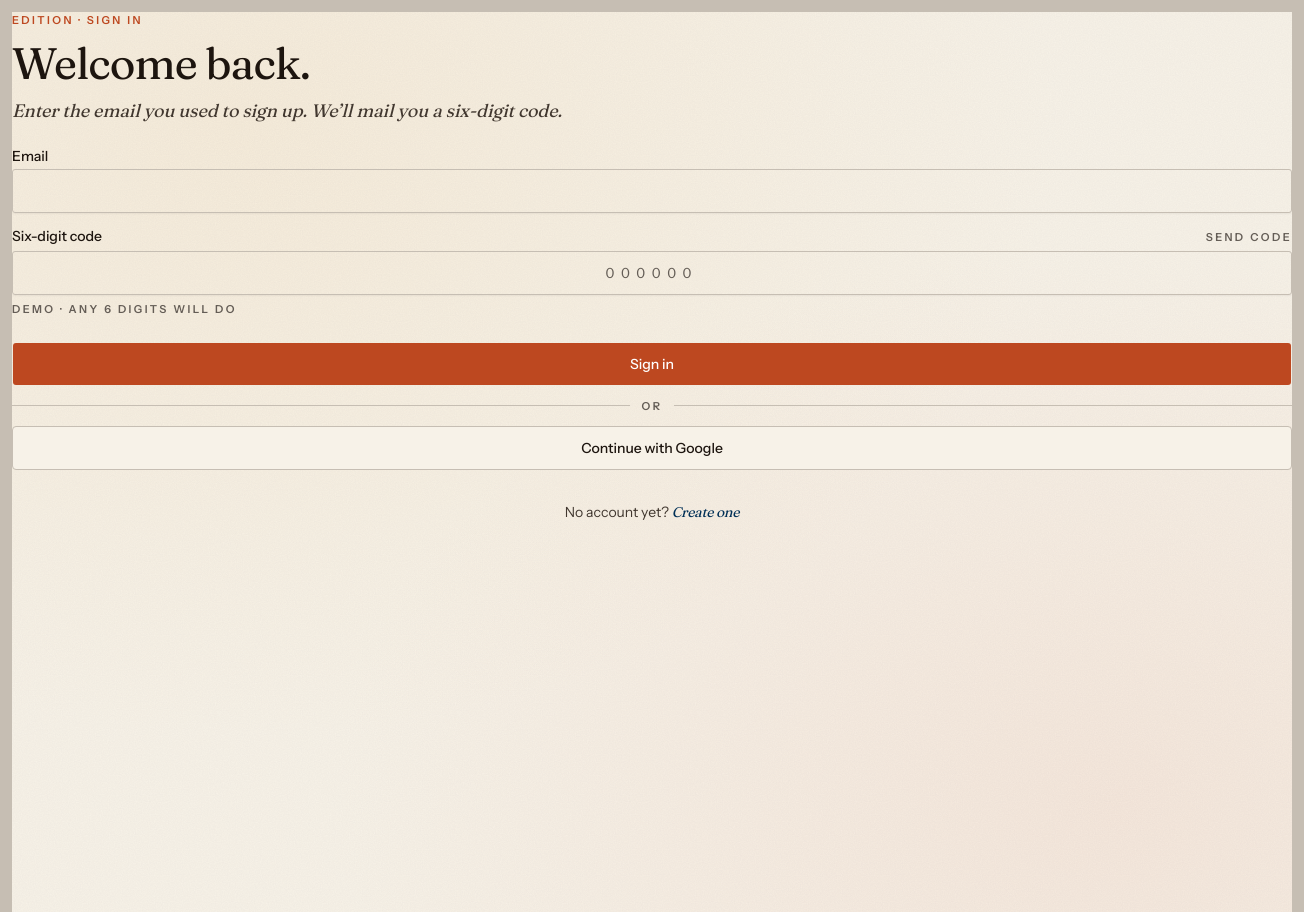
Test: AuthForm — validation › signin: empty email → submit shows 'Email is required.'
Click the button with test id "auth-submit" at (652, 364), box 12,342 -> 1292,386
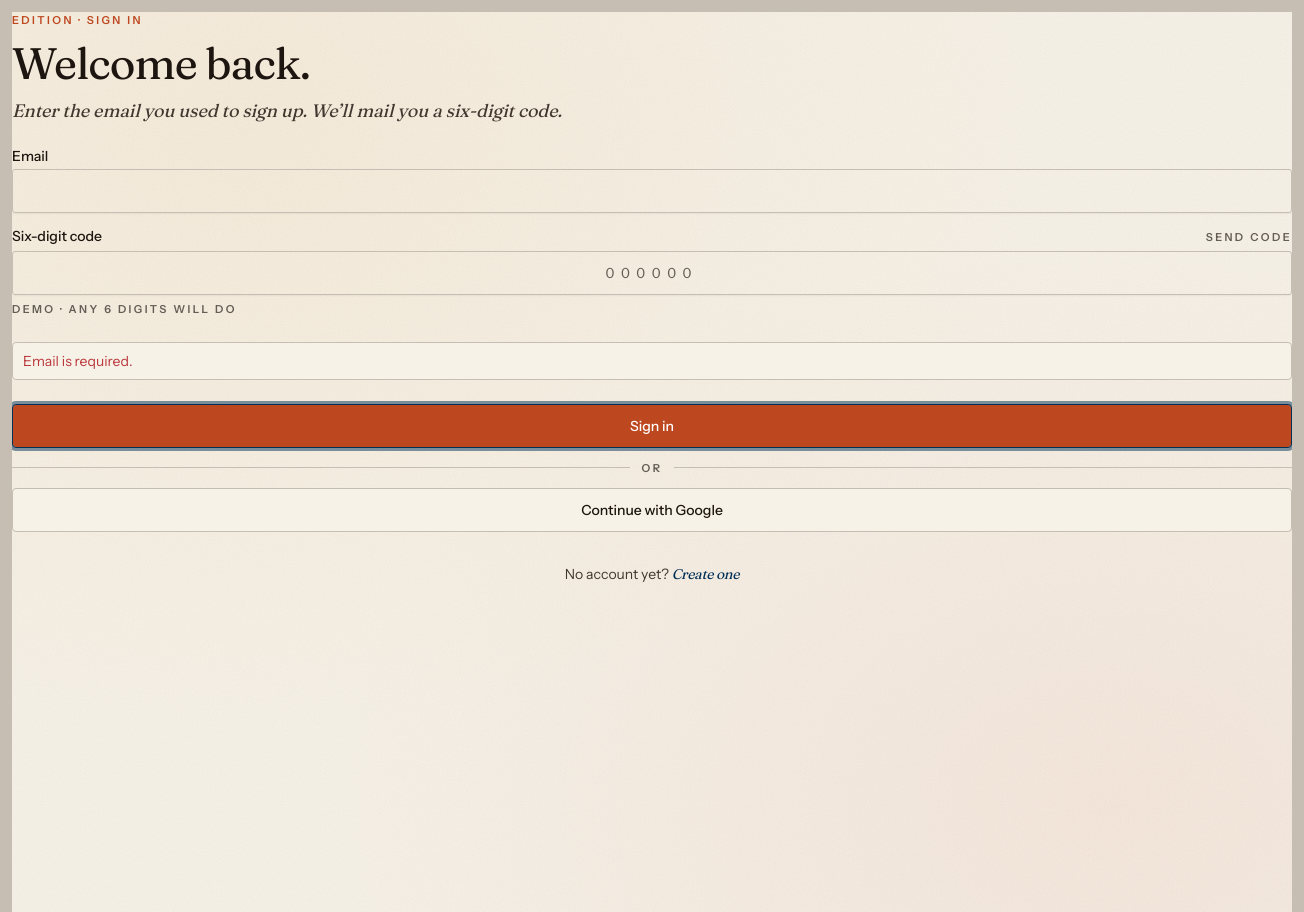
Expected: the message "Email is required." is shown, 12,342 -> 1292,380
